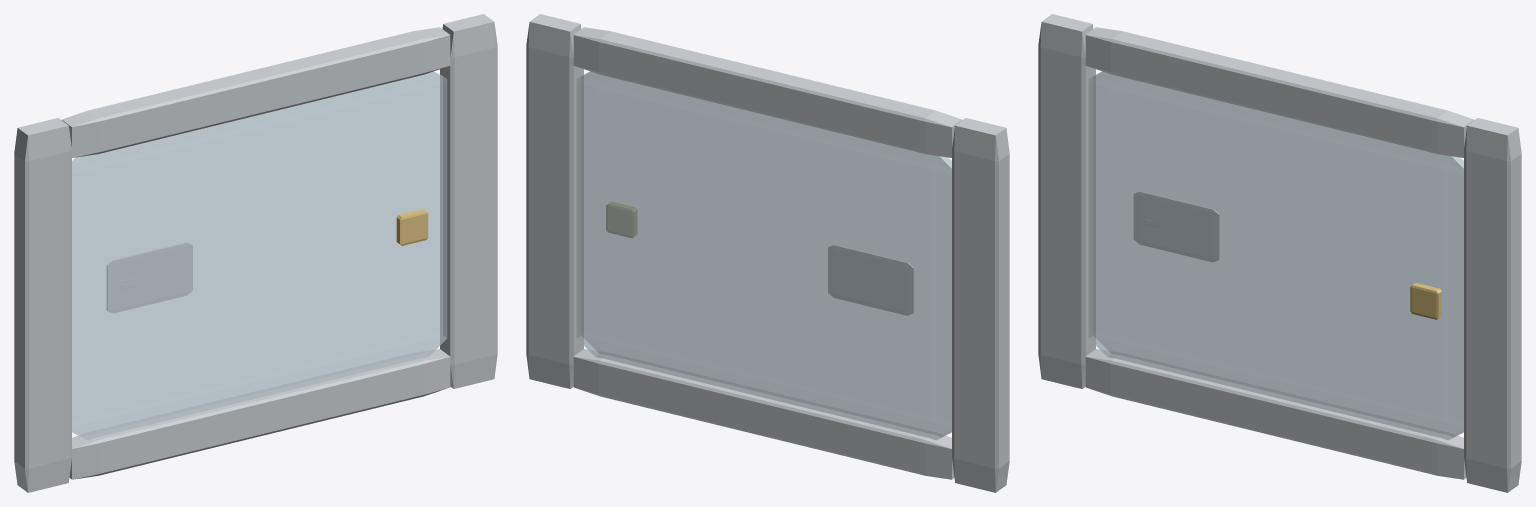
File: b21_door_storefront_3_6m.glb
3 views of the same model, side by side, from view 1: azimuth 30°, elevation 25°; view 2: azimuth 150°, elevation 25°; view 3: azimuth 330°, elevation 25° (orthographic).
Visible parts, largest first — view 1: b21_door_storefront_3_6m; view 2: b21_door_storefront_3_6m; view 3: b21_door_storefront_3_6m.
Part boxes in pixels (left/top/right/bottom): b21_door_storefront_3_6m: left=14, top=14, right=497, bottom=492; b21_door_storefront_3_6m: left=526, top=14, right=1009, bottom=492; b21_door_storefront_3_6m: left=1038, top=14, right=1521, bottom=492.
Bounding box in the file's own units: 3.6 × 2.6 × 0.176.
